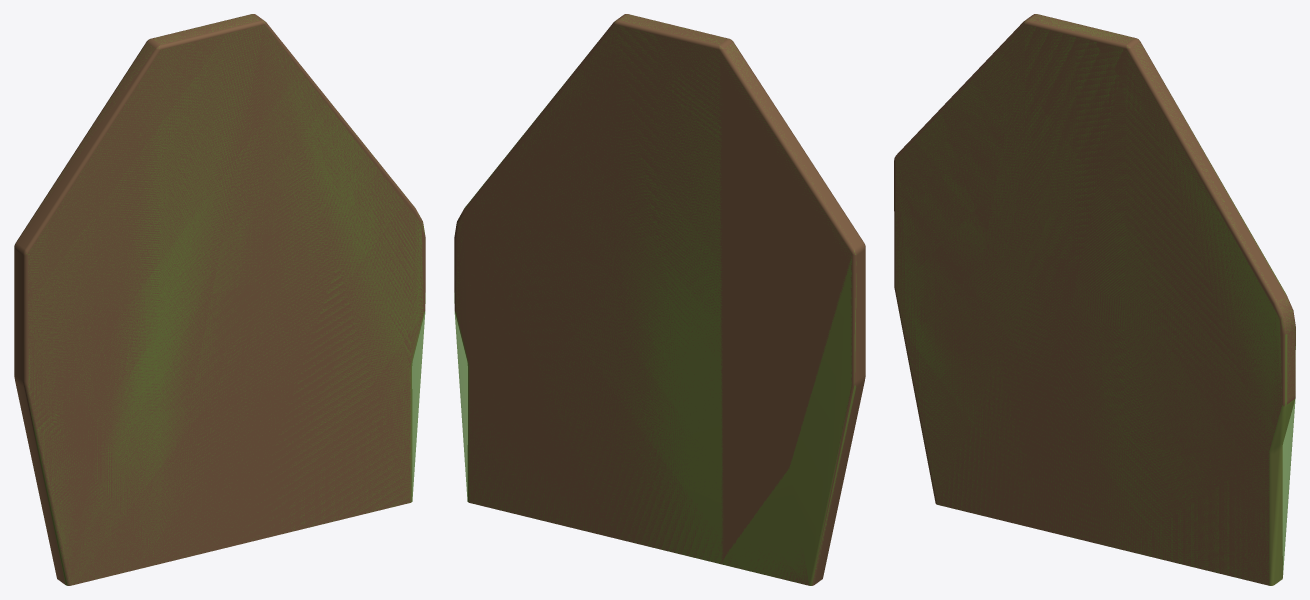
Rendered from M_md_Stall4_end_01.fbx.
3 renders of one model, left to right at view 1: azimuth 30°, elevation 25°; view 2: azimuth 150°, elevation 25°; view 3: azimuth 330°, elevation 25°, orthographic. The views are drawn at different scales.
Parts seen in each view (by area): view 1: M_md_Stall4_end_01_LOD0, M_md_Stall4_end_01_col_01; view 2: M_md_Stall4_end_01_LOD0, M_md_Stall4_end_01_col_01; view 3: M_md_Stall4_end_01_LOD0, M_md_Stall4_end_01_col_01.
Part boxes in pixels (x1,y1,x2,y2): M_md_Stall4_end_01_LOD0: [14, 14, 425, 585]; M_md_Stall4_end_01_col_01: [14, 14, 425, 585]; M_md_Stall4_end_01_LOD0: [454, 14, 865, 585]; M_md_Stall4_end_01_col_01: [454, 15, 856, 585]; M_md_Stall4_end_01_LOD0: [894, 14, 1295, 585]; M_md_Stall4_end_01_col_01: [895, 15, 1295, 585].
Size of what is drawn, in the model's own units: 127 by 157 by 6.68.
